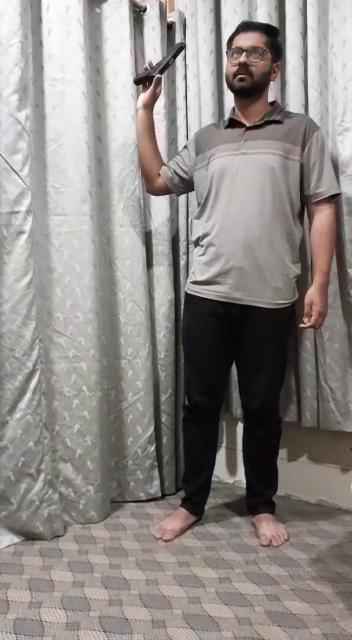criminal: (130, 19, 342, 553)
weapon: (132, 35, 192, 94)
